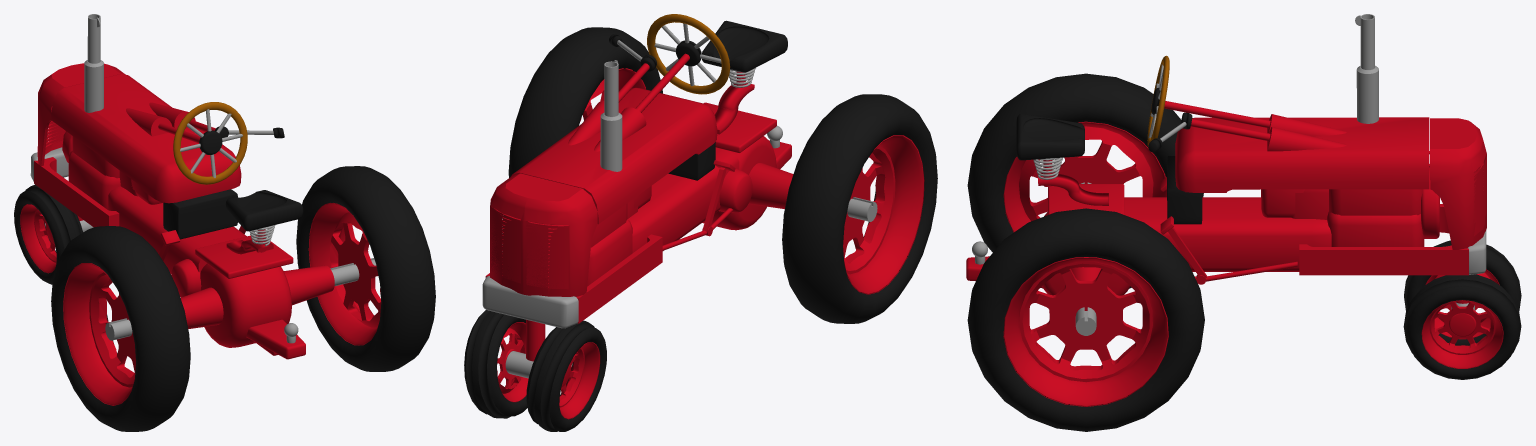
The model's file is carAll3.DAE.
The picture shows the model from 3 angles, left to right: view 1: azimuth 30°, elevation 25°; view 2: azimuth 150°, elevation 25°; view 3: azimuth 270°, elevation 25°; orthographic projection. The views are drawn at different scales.
Visible parts, largest first — view 1: Torus01, Torus10, ChamferBox01, ChamferBox30, Torus02, ChamferBox06, Cylinder98, Torus09, Cylinder16, Torus06, ChamferBox29, Box01 (+19 smaller); view 2: Torus01, ChamferBox02, ChamferBox01, Torus10, Torus02, Torus06, ChamferBox06, Torus08, Cylinder16, ChamferBox08, ChamferBox10, Box01 (+22 smaller); view 3: Torus10, ChamferBox01, Torus01, Cylinder98, ChamferBox06, Torus09, ChamferBox02, Torus08, Box02, Cylinder16, ChamferBox04, ChamferBox10 (+23 smaller).
Part boxes in pixels (left/top/right/bottom): Torus01: left=51, top=226, right=190, bottom=431; Torus10: left=296, top=166, right=435, bottom=371; ChamferBox01: left=51, top=74, right=241, bottom=203; ChamferBox30: left=200, top=263, right=305, bottom=359; Torus02: left=63, top=263, right=134, bottom=405; ChamferBox06: left=108, top=186, right=246, bottom=273; Cylinder98: left=330, top=212, right=381, bottom=327; Torus09: left=308, top=203, right=377, bottom=345; Cylinder16: left=89, top=272, right=135, bottom=387; Torus06: left=14, top=184, right=83, bottom=284; ChamferBox29: left=163, top=189, right=237, bottom=239; Box01: left=34, top=157, right=119, bottom=227; Torus01: left=782, top=94, right=937, bottom=323; ChamferBox02: left=490, top=173, right=597, bottom=296; ChamferBox01: left=511, top=87, right=717, bottom=224; Torus10: left=508, top=27, right=662, bottom=177; Torus02: left=843, top=135, right=924, bottom=294; Torus06: left=526, top=320, right=606, bottom=431; ChamferBox06: left=628, top=147, right=739, bottom=253; Torus08: left=464, top=310, right=527, bottom=418; Cylinder16: left=843, top=146, right=895, bottom=274; ChamferBox08: left=482, top=276, right=578, bottom=328; ChamferBox10: left=702, top=20, right=787, bottom=72; Box01: left=576, top=234, right=662, bottom=323; Torus10: left=967, top=208, right=1204, bottom=431; ChamferBox01: left=1175, top=117, right=1429, bottom=192; Torus01: left=967, top=73, right=1203, bottom=288; Cylinder98: left=1019, top=262, right=1152, bottom=382; ChamferBox06: left=1124, top=197, right=1331, bottom=271; Torus09: left=1003, top=257, right=1168, bottom=406; ChamferBox02: left=1430, top=118, right=1486, bottom=249; Torus08: left=1403, top=274, right=1521, bottom=379; Box02: left=1299, top=244, right=1468, bottom=275; Cylinder16: left=1019, top=126, right=1153, bottom=221; ChamferBox04: left=1327, top=211, right=1424, bottom=246; ChamferBox10: left=1016, top=114, right=1084, bottom=160.
Size of the model in its own units: 39.04 by 56.21 by 37.38.
